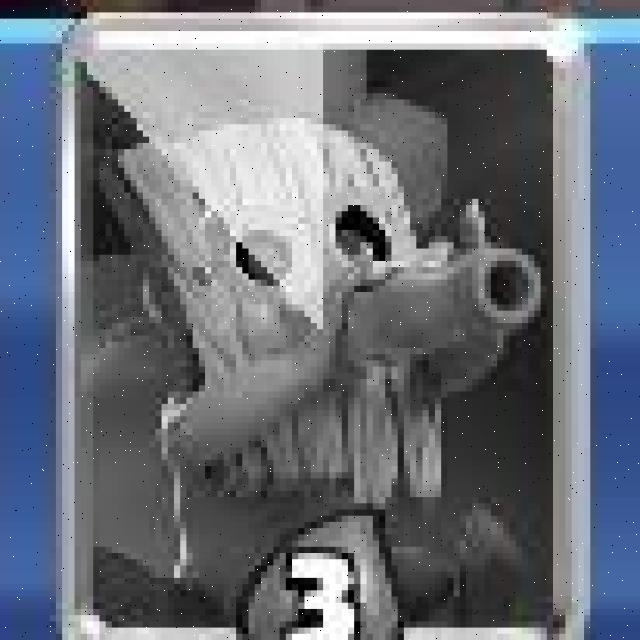Dart_Goblin: (57, 13, 591, 640)
